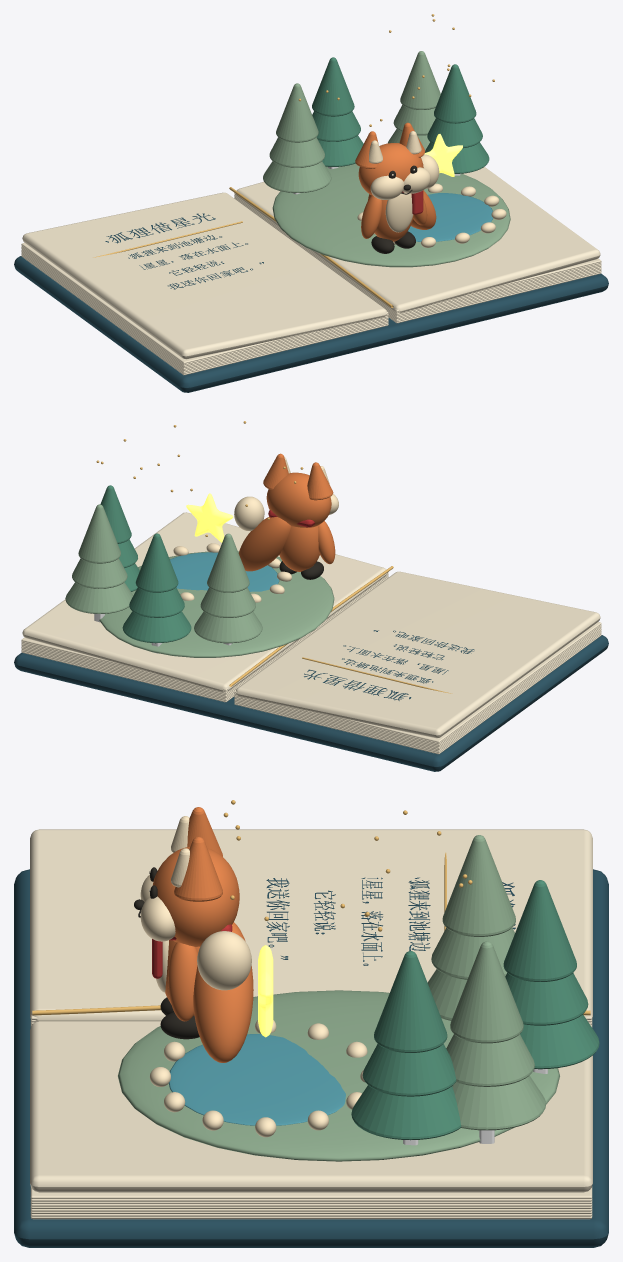
File: fox-storybook.glb
3 renders of one model, top to bottom at view 1: azimuth 30°, elevation 25°; view 2: azimuth 150°, elevation 25°; view 3: azimuth 270°, elevation 25°, orthographic. The views are drawn at different scales.
Visible parts, largest first — view 1: Curved main page, Curved main page.001, Book cloth binding, Moss island, Moon pond, Paper forest canopy, Paper forest canopy.011, Paper forest canopy.002, Paper forest canopy.005, Paper forest canopy.008, Fox head, Paper forest canopy.001 (+23 smaller); view 2: Curved main page, Book cloth binding, Curved main page.001, Moss island, Fox head, Moon pond, FOX_TAIL, Paper forest canopy, Paper forest canopy.003, Paper forest canopy.006, Paper forest canopy.005, Paper forest canopy.002 (+25 smaller); view 3: Curved main page, Curved main page.001, Book cloth binding, Moss island, Moon pond, Paper forest canopy.008, Paper forest canopy.011, Paper forest canopy.005, Paper forest canopy.002, Paper forest canopy.009, Fox head, FOX_TAIL (+27 smaller).
Boxes of the visible parts, left/top/right/bottom form: Curved main page: left=22, top=192, right=386, bottom=359; Curved main page.001: left=235, top=167, right=600, bottom=312; Book cloth binding: left=14, top=256, right=608, bottom=392; Moss island: left=272, top=163, right=510, bottom=267; Moon pond: left=408, top=193, right=493, bottom=241; Paper forest canopy: left=263, top=161, right=331, bottom=192; Paper forest canopy.011: left=434, top=64, right=476, bottom=123; Paper forest canopy.002: left=276, top=83, right=318, bottom=142; Paper forest canopy.005: left=312, top=57, right=354, bottom=116; Paper forest canopy.008: left=400, top=51, right=440, bottom=109; Fox head: left=358, top=143, right=423, bottom=195; Paper forest canopy.001: left=269, top=137, right=324, bottom=167; Curved main page: left=236, top=571, right=600, bottom=738; Book cloth binding: left=14, top=635, right=608, bottom=771; Curved main page.001: left=22, top=512, right=387, bottom=691; Moss island: left=99, top=551, right=334, bottom=657; Fox head: left=266, top=472, right=331, bottom=527; Moon pond: left=170, top=552, right=279, bottom=591; FOX_TAIL: left=238, top=517, right=290, bottom=571; Paper forest canopy: left=194, top=611, right=262, bottom=643; Paper forest canopy.003: left=122, top=611, right=191, bottom=643; Paper forest canopy.006: left=65, top=582, right=133, bottom=613; Paper forest canopy.005: left=135, top=533, right=178, bottom=592; Paper forest canopy.002: left=207, top=533, right=249, bottom=592; Curved main page: left=30, top=829, right=592, bottom=1021; Curved main page.001: left=30, top=1021, right=592, bottom=1192; Book cloth binding: left=14, top=869, right=608, bottom=1247; Moss island: left=118, top=990, right=559, bottom=1161; Moon pond: left=169, top=1034, right=345, bottom=1125; Paper forest canopy.008: left=450, top=941, right=523, bottom=1043; Paper forest canopy.011: left=374, top=951, right=447, bottom=1052; Paper forest canopy.005: left=503, top=880, right=576, bottom=981; Paper forest canopy.002: left=442, top=835, right=515, bottom=936; Paper forest canopy.009: left=351, top=1085, right=461, bottom=1140; Fox head: left=152, top=846, right=239, bottom=946; FOX_TAIL: left=193, top=922, right=253, bottom=1062.
Bounding box in the file's own units: 5.6 × 2.51 × 3.9.
